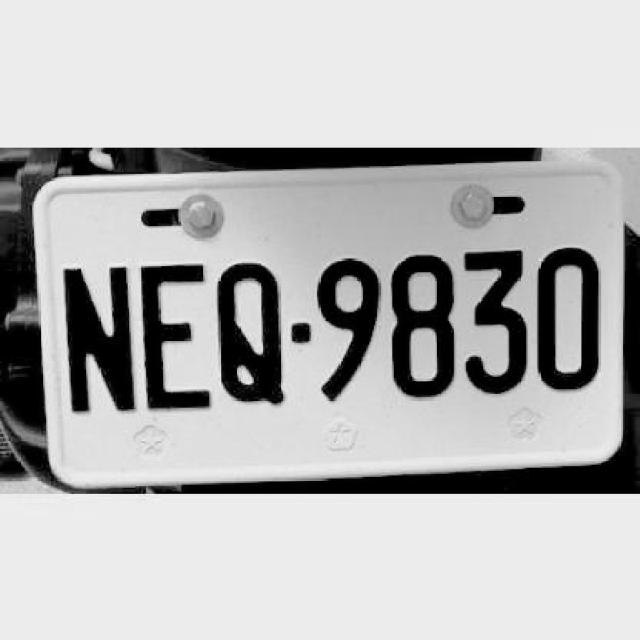-: (288, 319, 312, 346)
0: (537, 244, 601, 396)
3: (463, 248, 532, 397)
8: (384, 245, 458, 406)
9: (310, 246, 384, 406)
E: (138, 260, 216, 412)
N: (58, 266, 136, 414)
Q: (215, 258, 288, 409)
